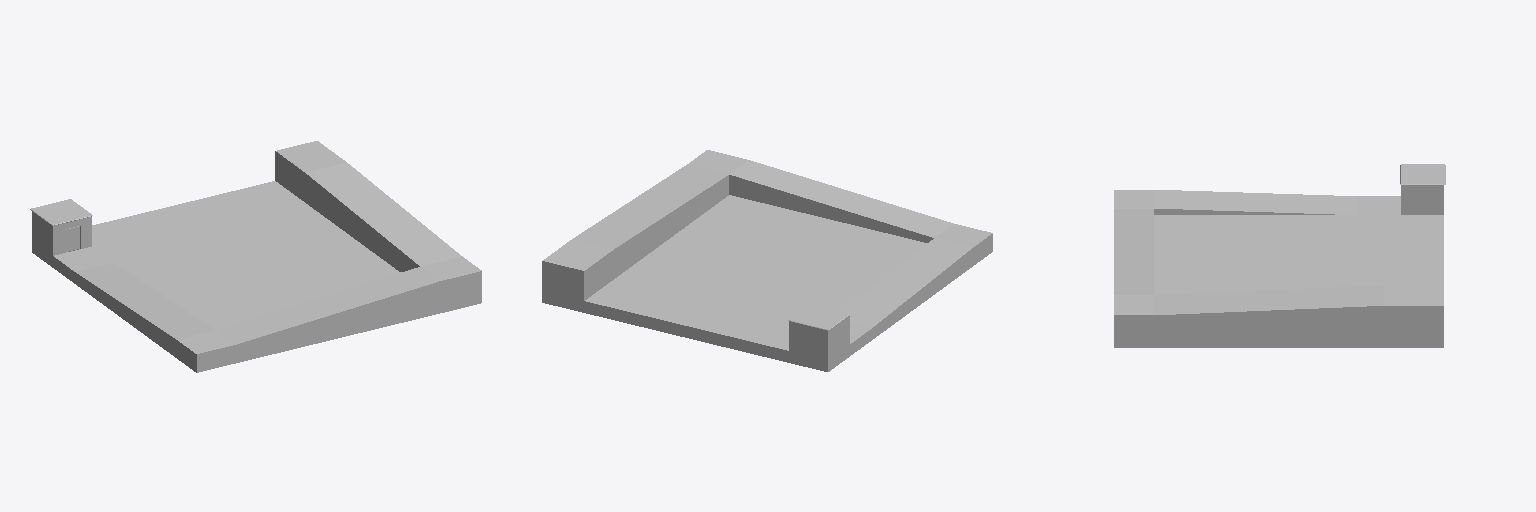
The model's file is 25x25RampedRooftop.obj.
3 renders of one model, left to right at view 1: azimuth 30°, elevation 25°; view 2: azimuth 150°, elevation 25°; view 3: azimuth 270°, elevation 25°, orthographic.
Parts seen in each view (by area): view 1: pCube28; view 2: pCube28; view 3: pCube28.
Boxes of the visible parts, box(x1,y1,x2,y2) form: pCube28: box(30, 141, 481, 372); pCube28: box(542, 150, 992, 371); pCube28: box(1114, 164, 1445, 347).
Bounding box in the file's own units: 25.11 × 3.62 × 25.1.